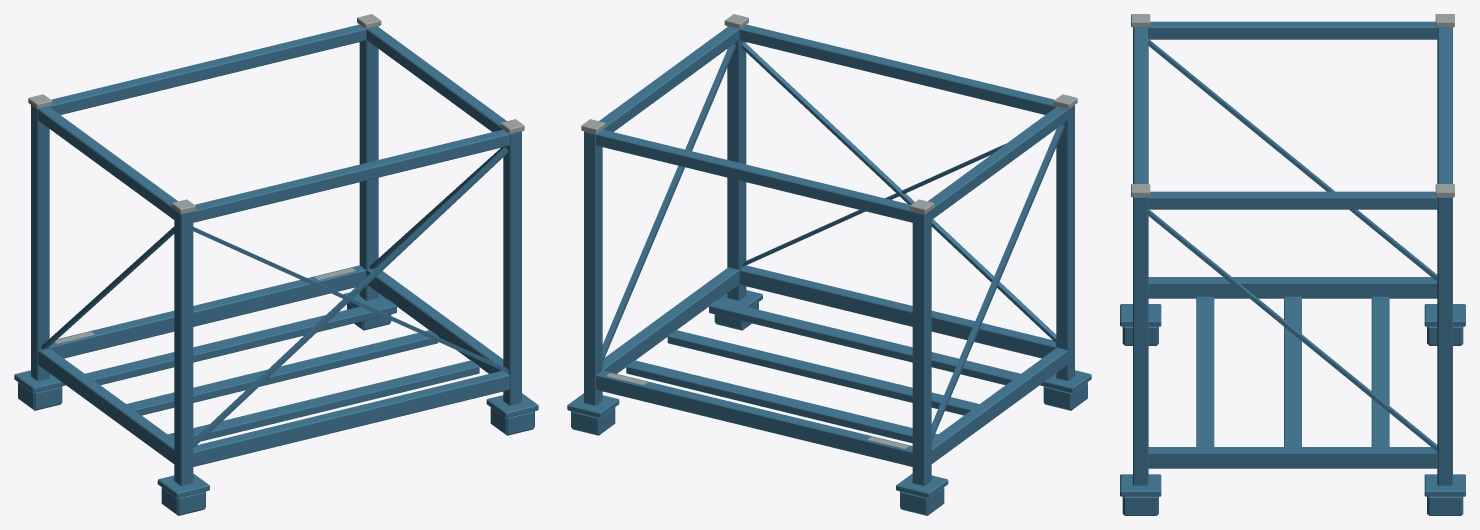
Rendered from blue_transport_rack.glb.
The picture shows the model from 3 angles, left to right: view 1: azimuth 30°, elevation 25°; view 2: azimuth 150°, elevation 25°; view 3: azimuth 270°, elevation 25°; orthographic projection. The views are drawn at different scales.
Parts seen in each view (by area): view 1: blue_transport_rack; view 2: blue_transport_rack; view 3: blue_transport_rack.
Part boxes in pixels (x1=…): blue_transport_rack: x1=14, y1=14, x2=538, y2=515; blue_transport_rack: x1=567, y1=14, x2=1091, y2=515; blue_transport_rack: x1=1120, y1=14, x2=1465, y2=515.
Size of the model in its own units: 1.72 by 1.38 by 1.34.
